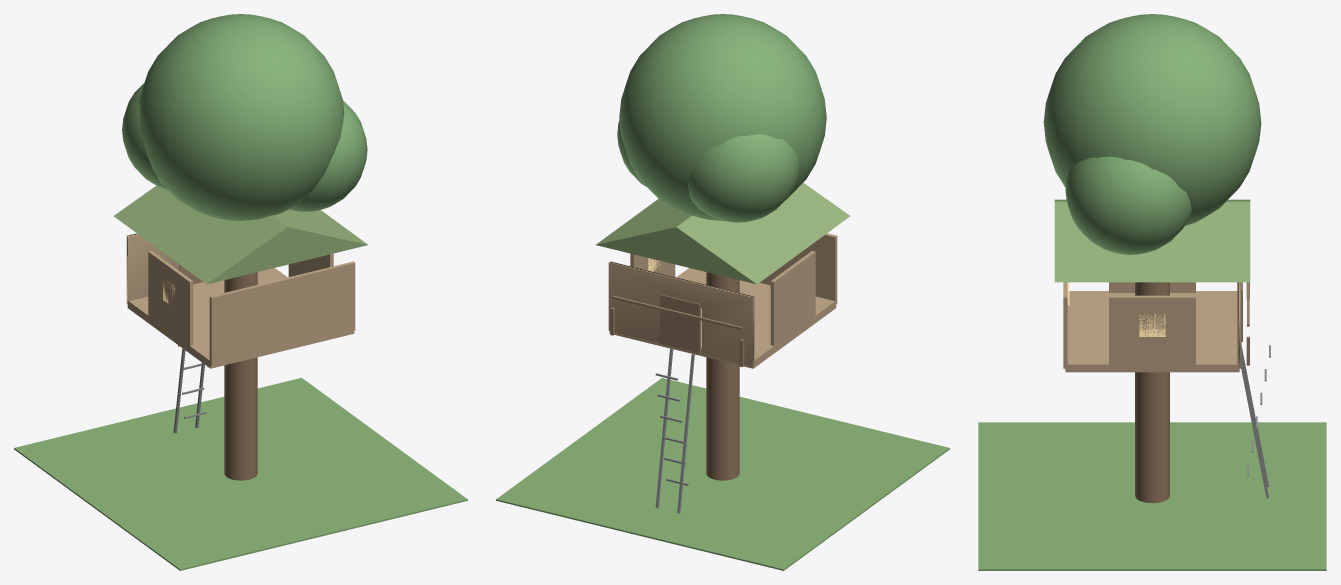
The model's file is treehouse.glb.
The picture shows the model from 3 angles, left to right: view 1: azimuth 30°, elevation 25°; view 2: azimuth 150°, elevation 25°; view 3: azimuth 270°, elevation 25°; orthographic projection. The views are drawn at different scales.
Parts seen in each view (by area): view 1: ground, canopy_1, roof, wall_b, trunk, canopy_2, wall_l, platform, wall_f, canopy_3, wall_r; view 2: ground, canopy_1, roof, wall_f, canopy_3, trunk, wall_l, platform, door, wall_b, ladder_l, wall_r (+1 smaller); view 3: ground, canopy_1, roof, canopy_2, platform, wall_r, trunk, wall_l, win_r, ladder_r.
Part boxes in pixels (<box>): ground: <box>14,377,467,570</box>; canopy_1: <box>139,14,344,220</box>; roof: <box>113,185,367,284</box>; wall_b: <box>209,261,355,365</box>; trunk: <box>224,272,257,480</box>; canopy_2: <box>289,100,367,211</box>; wall_l: <box>148,251,193,349</box>; platform: <box>127,268,354,368</box>; wall_f: <box>126,233,178,303</box>; canopy_3: <box>122,83,166,189</box>; wall_r: <box>288,253,333,276</box>; ground: <box>496,377,949,570</box>; canopy_1: <box>619,14,826,220</box>; roof: <box>596,182,850,284</box>; wall_f: <box>608,261,754,365</box>; canopy_3: <box>688,134,799,222</box>; trunk: <box>706,272,739,480</box>; wall_l: <box>770,251,815,349</box>; platform: <box>609,268,836,368</box>; door: <box>660,294,700,353</box>; wall_b: <box>760,233,837,304</box>; ladder_l: <box>677,354,694,513</box>; wall_r: <box>630,253,675,276</box>; ground: <box>978,422,1326,570</box>; canopy_1: <box>1043,14,1261,225</box>; roof: <box>1054,199,1250,282</box>; canopy_2: <box>1065,156,1191,254</box>; platform: <box>1065,291,1239,372</box>; wall_r: <box>1109,295,1195,368</box>; trunk: <box>1135,282,1169,503</box>; wall_l: <box>1109,282,1195,292</box>; win_r: <box>1139,313,1165,336</box>; ladder_r: <box>1241,357,1268,498</box>.
Size of the model in its own units: 8 by 12 by 8.
